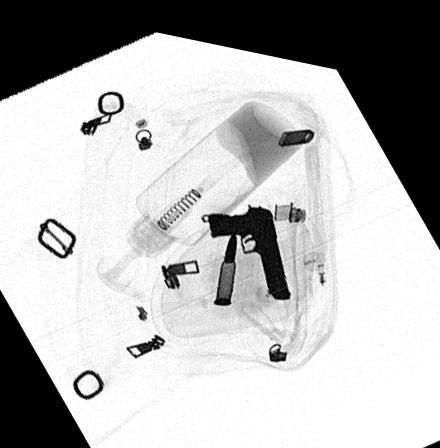Bullet: (215, 220, 236, 298)
Gun: (207, 195, 291, 288)
